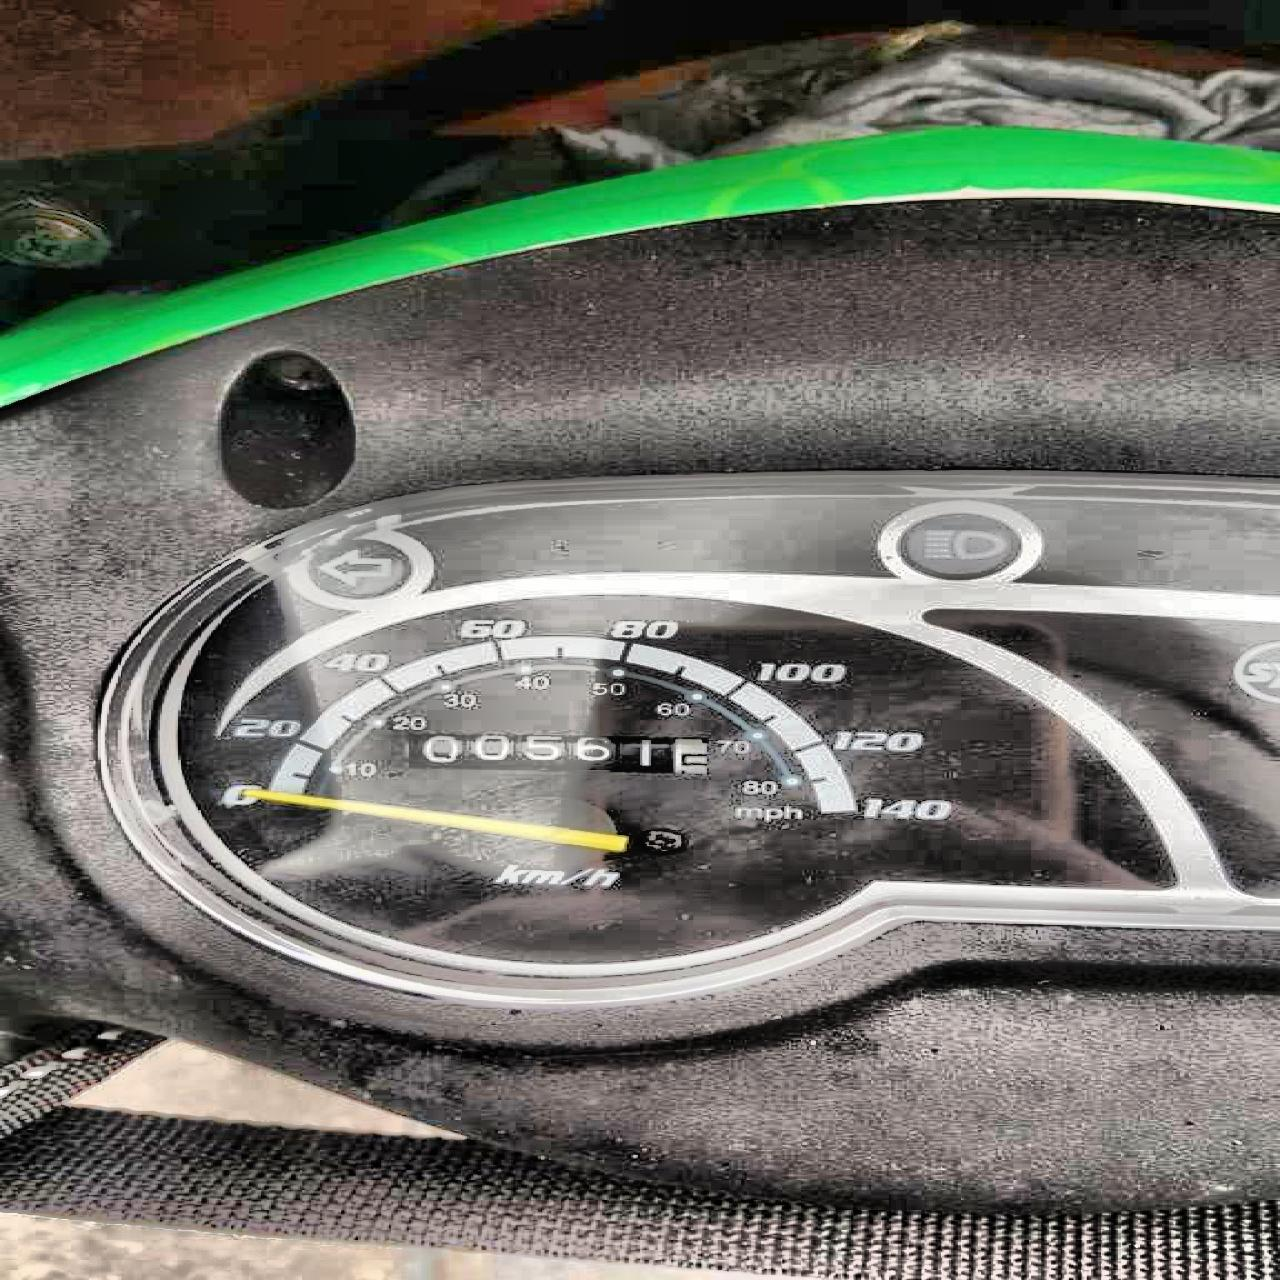0: (420, 734, 458, 764), (471, 733, 509, 762)
1: (631, 735, 660, 769)
5: (520, 733, 560, 758), (678, 750, 712, 776)
6: (571, 734, 615, 763)
odometer: (384, 729, 720, 783)
